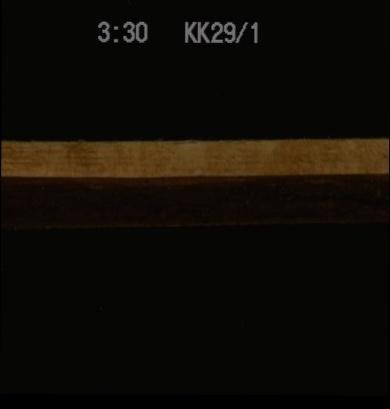wave: (0, 168, 388, 226)
